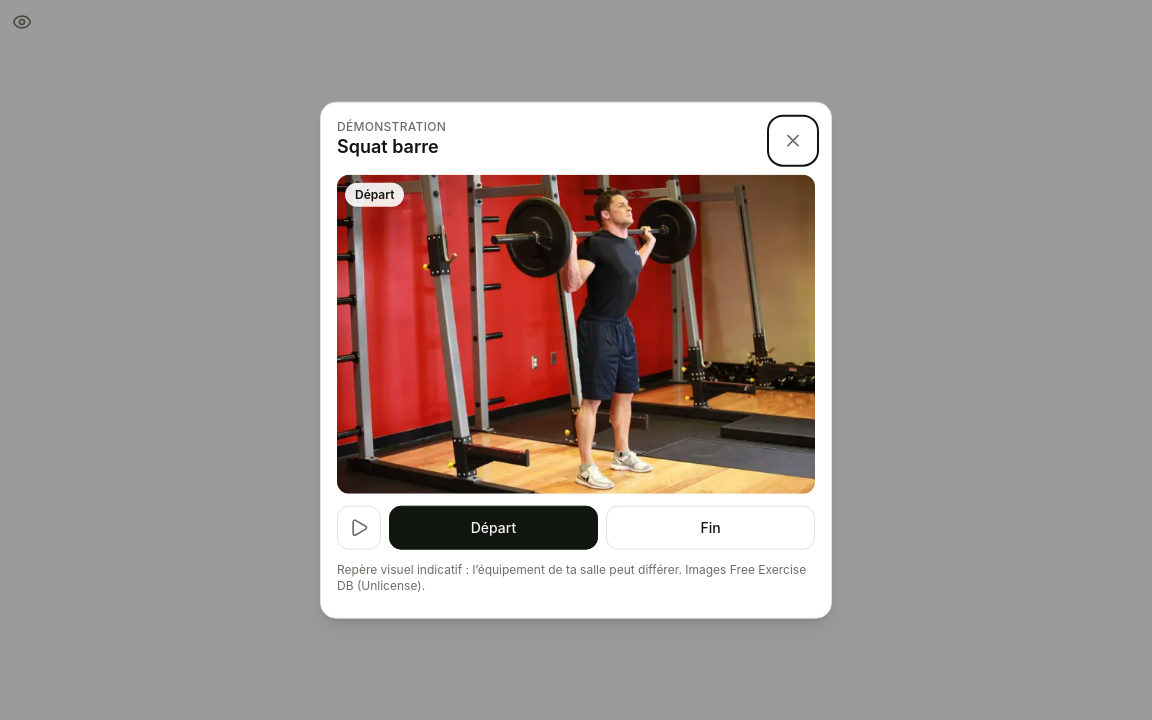
Scenario: ExerciseMediaButton › does not autoplay when reduced motion is requested
Earlier steps of the test are not shown.
Expected: the button named "Lire la démonstration" is shown, [337,505,381,549]
Click the button "Fin" at [710, 527], box [606,505,815,549]
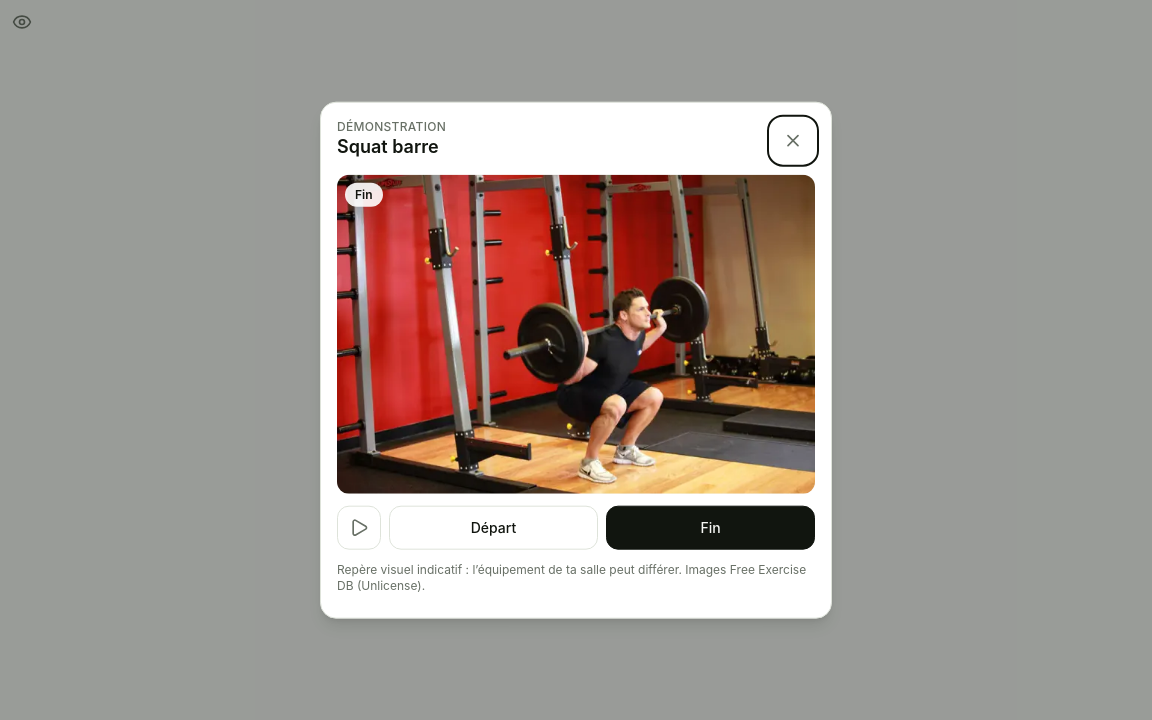
Result: the button "Fin" is pressed at [606,505,815,549]
